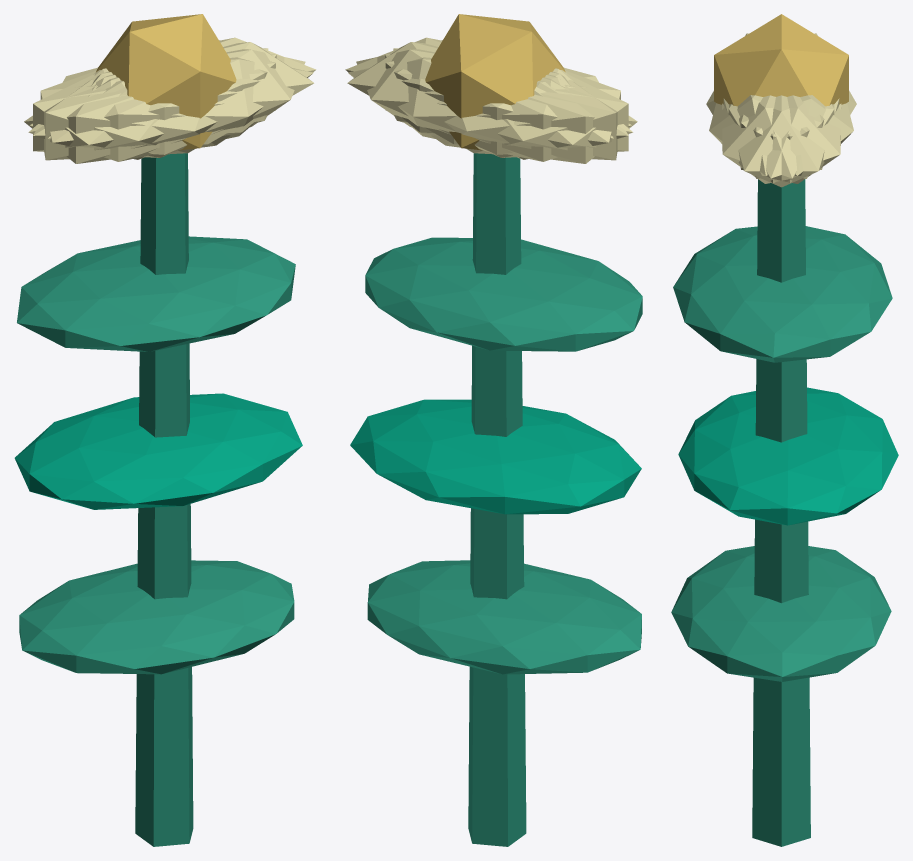
The model's file is achyranthes-aspera.glb.
3 renders of one model, left to right at view 1: azimuth 30°, elevation 25°; view 2: azimuth 150°, elevation 25°; view 3: azimuth 270°, elevation 25°, orthographic.
Parts seen in each view (by area): view 1: stem, leaf2, leaf1, leaf0, center, petal1, petal6, petal2, petal5, petal7, petal0, petal4 (+2 smaller); view 2: stem, leaf1, leaf2, leaf0, center, petal8, petal3, petal7, petal4, petal2, petal0, petal5 (+2 smaller); view 3: stem, leaf2, leaf1, leaf0, center, petal0, petal5, petal4, petal1, petal8.
Boxes of the visible parts, left/top/right/bottom form: stem: left=135, top=153, right=193, bottom=846; leaf2: left=17, top=236, right=295, bottom=351; leaf1: left=14, top=393, right=302, bottom=509; leaf0: left=19, top=560, right=294, bottom=674; center: left=96, top=14, right=236, bottom=150; petal1: left=28, top=57, right=313, bottom=161; petal6: left=24, top=70, right=230, bottom=163; petal2: left=44, top=48, right=268, bottom=160; petal5: left=48, top=49, right=305, bottom=154; petal7: left=33, top=54, right=276, bottom=157; petal0: left=95, top=42, right=314, bottom=144; petal4: left=30, top=37, right=315, bottom=136; stem: left=468, top=153, right=526, bottom=846; leaf1: left=350, top=399, right=641, bottom=514; leaf2: left=365, top=237, right=642, bottom=351; leaf0: left=367, top=560, right=641, bottom=674; center: left=425, top=14, right=565, bottom=150; petal8: left=348, top=57, right=632, bottom=161; petal3: left=431, top=70, right=637, bottom=163; petal7: left=393, top=48, right=617, bottom=160; petal4: left=356, top=49, right=613, bottom=154; petal2: left=385, top=54, right=628, bottom=157; petal0: left=347, top=42, right=565, bottom=144; petal5: left=345, top=37, right=631, bottom=136; stem: left=752, top=179, right=810, bottom=846; leaf2: left=673, top=226, right=892, bottom=362; leaf1: left=678, top=387, right=898, bottom=525; leaf0: left=671, top=546, right=891, bottom=681; center: left=714, top=14, right=848, bottom=106; petal0: left=723, top=95, right=839, bottom=187; petal5: left=722, top=95, right=834, bottom=183; petal4: left=728, top=95, right=841, bottom=183; petal1: left=709, top=95, right=824, bottom=175; petal8: left=739, top=95, right=853, bottom=175.
Bounding box in the file's own units: 0.1498 × 0.4015 × 0.1032.
